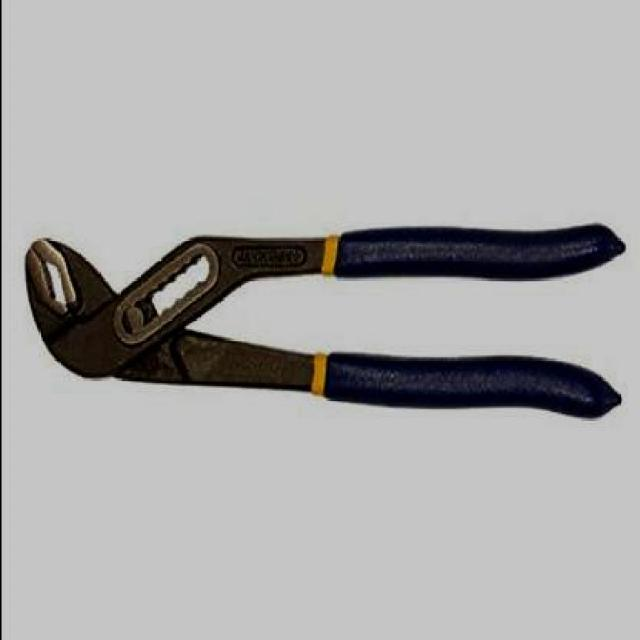pliers: (4, 204, 630, 441)
